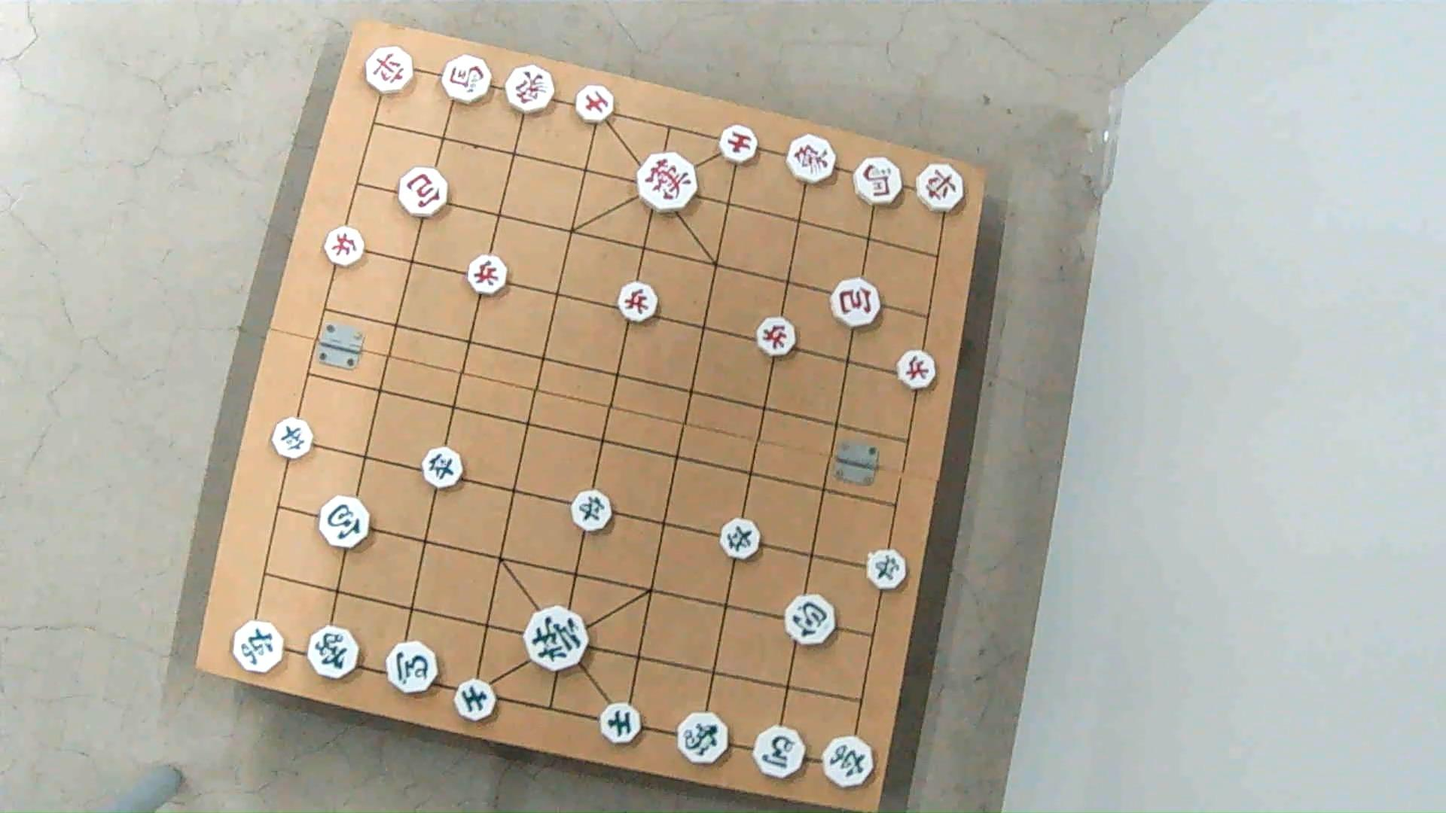cha_green: (823, 733, 875, 791), (232, 622, 284, 671)
cha_red: (916, 164, 965, 212), (364, 48, 415, 91)
jol_green: (571, 491, 614, 530), (725, 520, 768, 559), (272, 420, 316, 458), (419, 448, 462, 486), (865, 552, 908, 589)
jol_red: (465, 257, 508, 294), (757, 318, 799, 355), (895, 351, 937, 388), (618, 283, 660, 320), (322, 227, 363, 263)
ma_green: (755, 724, 807, 781), (386, 640, 438, 695)
ma_red: (854, 159, 905, 205), (442, 56, 492, 101)
po_green: (785, 596, 838, 646), (318, 498, 371, 548)
po_red: (395, 169, 446, 215), (831, 281, 882, 327)
sa_green: (455, 681, 498, 722), (600, 702, 642, 741)
sa_red: (575, 86, 618, 123), (718, 126, 760, 163)
sang_green: (676, 709, 731, 766), (307, 625, 358, 679)
sang_red: (785, 135, 836, 184), (508, 65, 556, 114)
wang_green: (523, 608, 590, 670)
wang_red: (633, 155, 697, 212)
